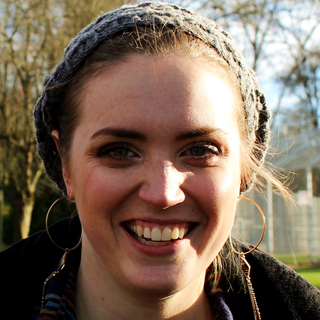eye: (94, 140, 144, 164), (179, 138, 222, 163)
